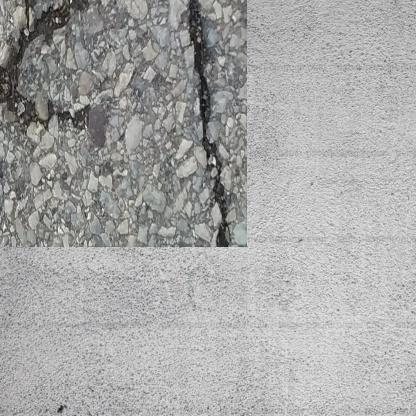Cracks: (0, 0, 96, 120), (172, 0, 217, 228)
